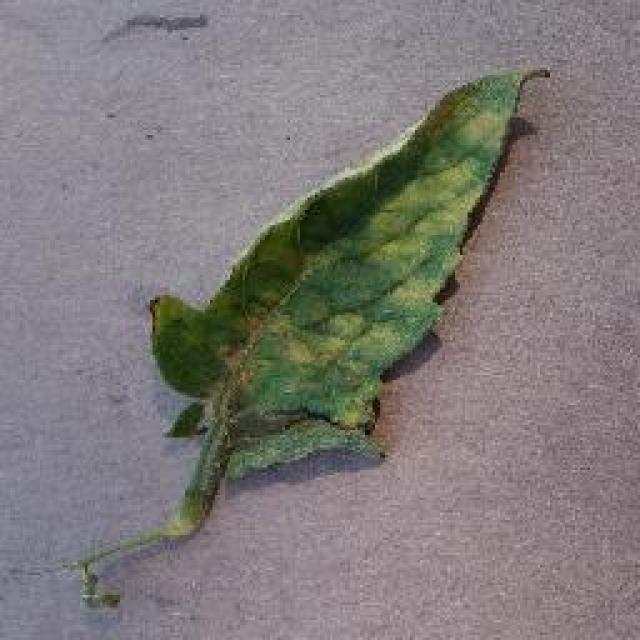Tomato mold leaf: (152, 64, 552, 478)
